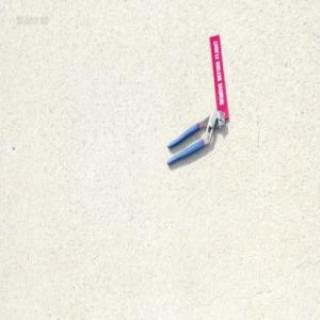LuggageTagtrack_idkeyframe: (208, 33, 228, 120)
Pliertrack_idkeyframe: (165, 108, 224, 165)
